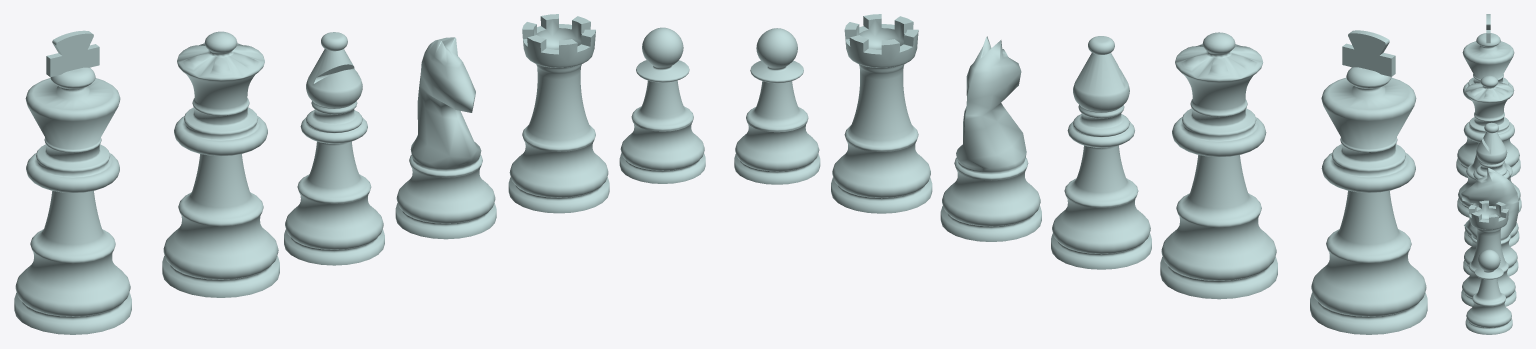
The model's file is MSH_Ajedrez.FBX.
3 views of the same model, side by side, from view 1: azimuth 30°, elevation 25°; view 2: azimuth 150°, elevation 25°; view 3: azimuth 270°, elevation 25° (orthographic). The views are drawn at different scales.
Visible parts, largest first — view 1: MSH_Ajedrez; view 2: MSH_Ajedrez; view 3: MSH_Ajedrez.
Part boxes in pixels (left/top/right/bottom): MSH_Ajedrez: left=14, top=14, right=705, bottom=334; MSH_Ajedrez: left=734, top=14, right=1427, bottom=334; MSH_Ajedrez: left=1456, top=14, right=1521, bottom=334.
Size of the model in its own units: 451 by 176 by 68.75.
